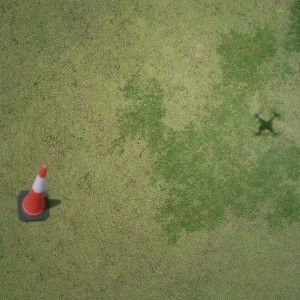traffic cone: (17, 164, 49, 222)
